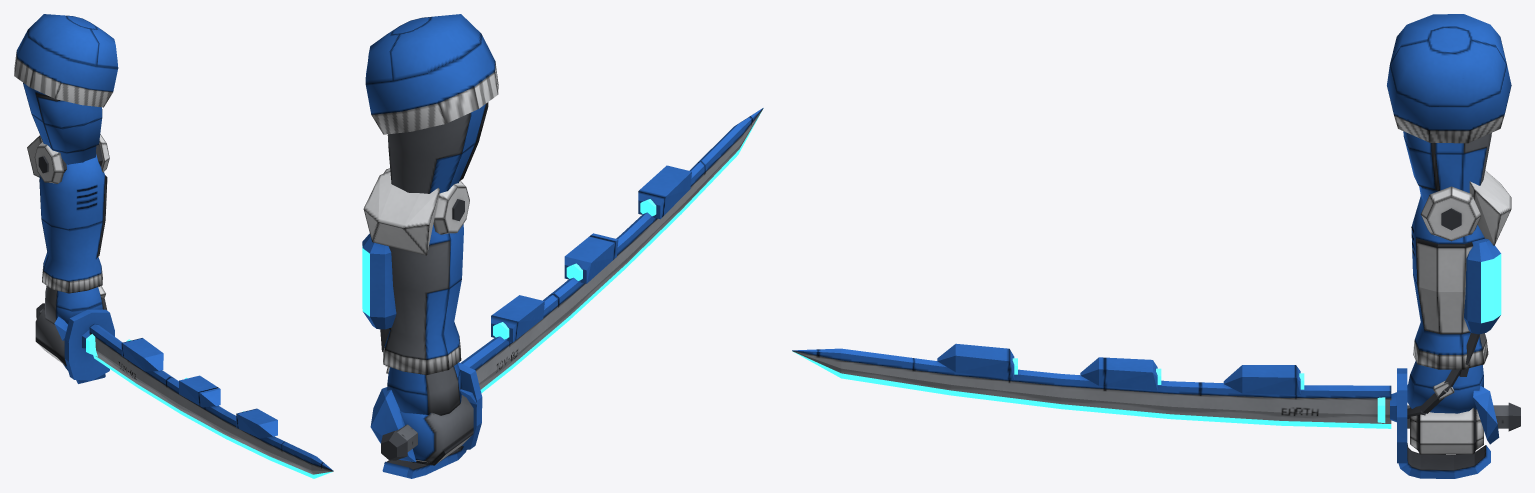
The model's file is RightIonKatanaArmX.glb.
3 views of the same model, side by side, from view 1: azimuth 30°, elevation 25°; view 2: azimuth 150°, elevation 25°; view 3: azimuth 270°, elevation 25° (orthographic). The views are drawn at different scales.
Visible parts, largest first — view 1: RightIonKatanaArmX_Fist, RightIonKatanaArmX_Upper, RightIonKatanaArmX_Fore; view 2: RightIonKatanaArmX_Fist, RightIonKatanaArmX_Upper, RightIonKatanaArmX_Fore; view 3: RightIonKatanaArmX_Fist, RightIonKatanaArmX_Upper, RightIonKatanaArmX_Fore.
Boxes of the visible parts, x1,y1,x2,y2 form: RightIonKatanaArmX_Fist: [35, 286, 333, 478]; RightIonKatanaArmX_Upper: [14, 14, 118, 164]; RightIonKatanaArmX_Fore: [27, 134, 109, 293]; RightIonKatanaArmX_Fist: [370, 108, 763, 478]; RightIonKatanaArmX_Upper: [365, 14, 498, 193]; RightIonKatanaArmX_Fore: [362, 168, 469, 375]; RightIonKatanaArmX_Fist: [792, 343, 1520, 478]; RightIonKatanaArmX_Upper: [1387, 14, 1511, 202]; RightIonKatanaArmX_Fore: [1411, 170, 1511, 376].
Size of the model in its own units: 4.12 by 15.75 by 23.65.
Materials: 6 (5 with a texture image).
